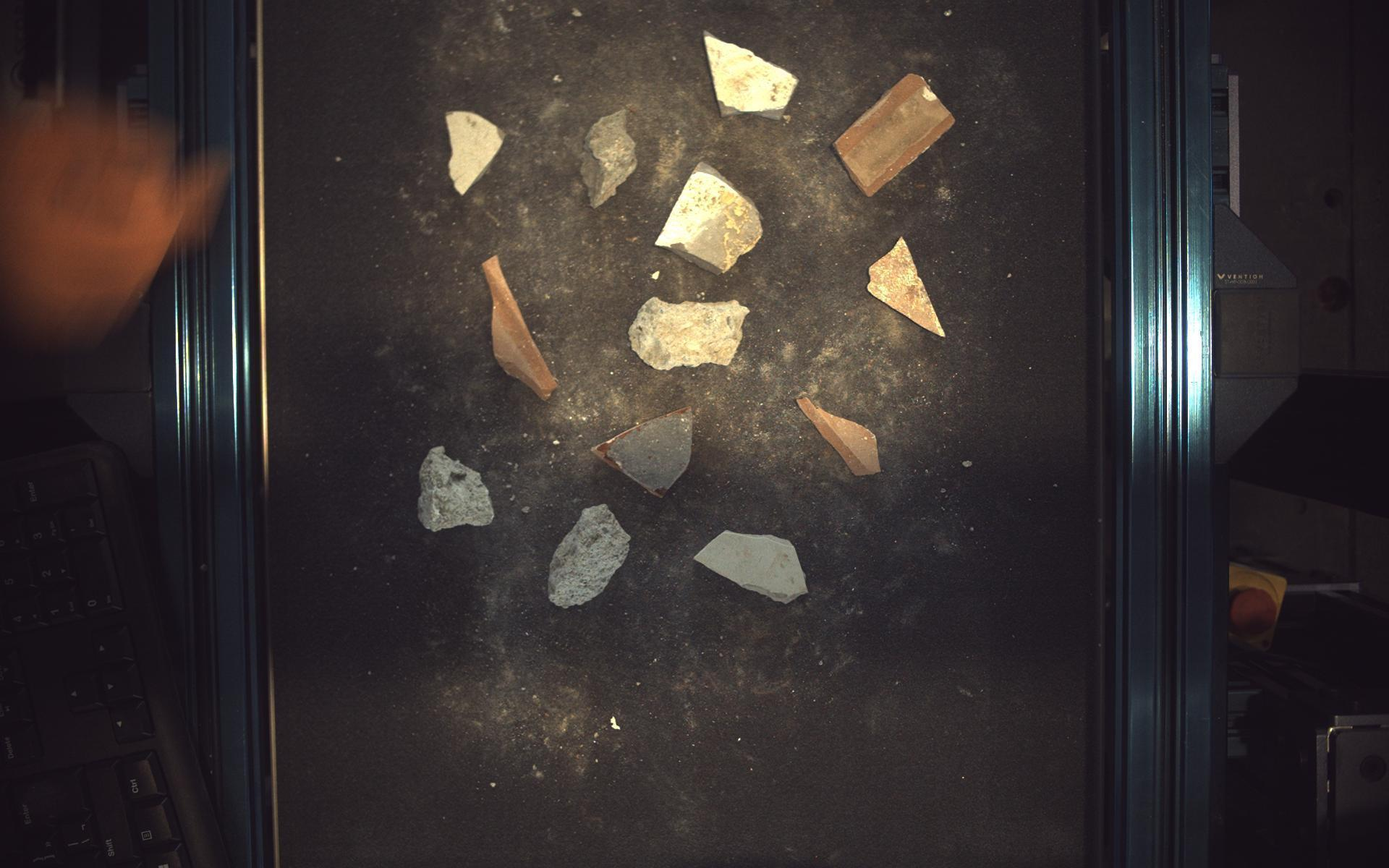brick: (836, 72, 956, 195), (483, 255, 558, 400), (799, 396, 882, 476)
concrete: (630, 297, 751, 370), (548, 505, 631, 608), (418, 446, 494, 532), (581, 109, 637, 207)
tile: (656, 160, 764, 274), (592, 407, 694, 498), (705, 30, 799, 119), (695, 531, 809, 604), (869, 237, 947, 337), (446, 110, 504, 194)
